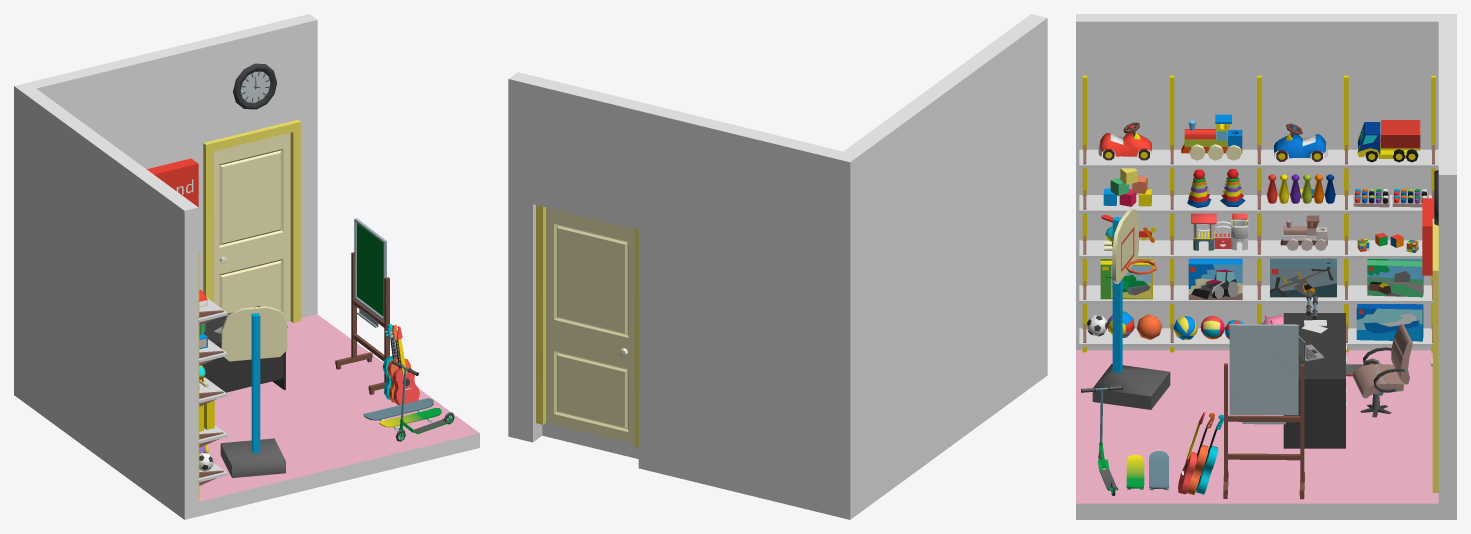
File: room_19.glb
3 renders of one model, left to right at view 1: azimuth 30°, elevation 25°; view 2: azimuth 150°, elevation 25°; view 3: azimuth 270°, elevation 25°, orthographic. The views are drawn at different scales.
Parts seen in each view (by area): view 1: Walls_006.032, Walls_177.001, Walls_006.033, door_007.001, Walls_006.034, toy_010.001, Walls_006.031, door_008.001, toy_024.001, office_table_030.001, shelf_059.001, prop_025.003 (+5 smaller); view 2: Walls_006.032, Walls_006.033, door_007.001, Walls_006.034, Walls_006.031, door_008.001, Walls_177.001; view 3: Walls_006.032, Walls_177.001, shelf_059.001, toy_024.001, Walls_006.031, office_table_030.001, toy_010.001, office_chair_009.001, toy_036.001, toy_012.002, toy_015.002, toy_014.003 (+24 smaller).
Boxes of the visible parts, x1,y1,x2,y2 form: Walls_006.032: [14, 82, 198, 519]; Walls_177.001: [198, 314, 479, 516]; Walls_006.033: [28, 41, 204, 291]; door_007.001: [214, 133, 290, 322]; Walls_006.034: [197, 19, 296, 142]; toy_010.001: [220, 306, 287, 477]; Walls_006.031: [288, 14, 317, 317]; door_008.001: [203, 119, 301, 322]; toy_024.001: [335, 218, 389, 394]; office_table_030.001: [202, 306, 287, 392]; shelf_059.001: [198, 253, 227, 498]; prop_025.003: [233, 63, 276, 109]; Walls_006.032: [834, 14, 1047, 519]; Walls_006.033: [638, 104, 842, 515]; door_007.001: [546, 207, 634, 444]; Walls_006.034: [533, 78, 647, 229]; Walls_006.031: [508, 72, 542, 442]; door_008.001: [536, 205, 638, 447]; Walls_177.001: [542, 423, 638, 458]; Walls_006.032: [1076, 14, 1456, 350]; Walls_177.001: [1076, 350, 1438, 519]; shelf_059.001: [1079, 75, 1438, 352]; toy_024.001: [1223, 324, 1304, 499]; Walls_006.031: [1438, 163, 1456, 519]; office_table_030.001: [1283, 313, 1346, 448]; toy_010.001: [1092, 209, 1170, 409]; office_chair_009.001: [1353, 324, 1412, 417]; toy_036.001: [1357, 120, 1420, 162]; toy_012.002: [1356, 304, 1423, 341]; toy_015.002: [1188, 258, 1242, 299]; toy_014.003: [1270, 263, 1336, 297].
Bounding box in the file's own units: 4.2 × 4.2 × 4.2.
1 material, 1 textured.
